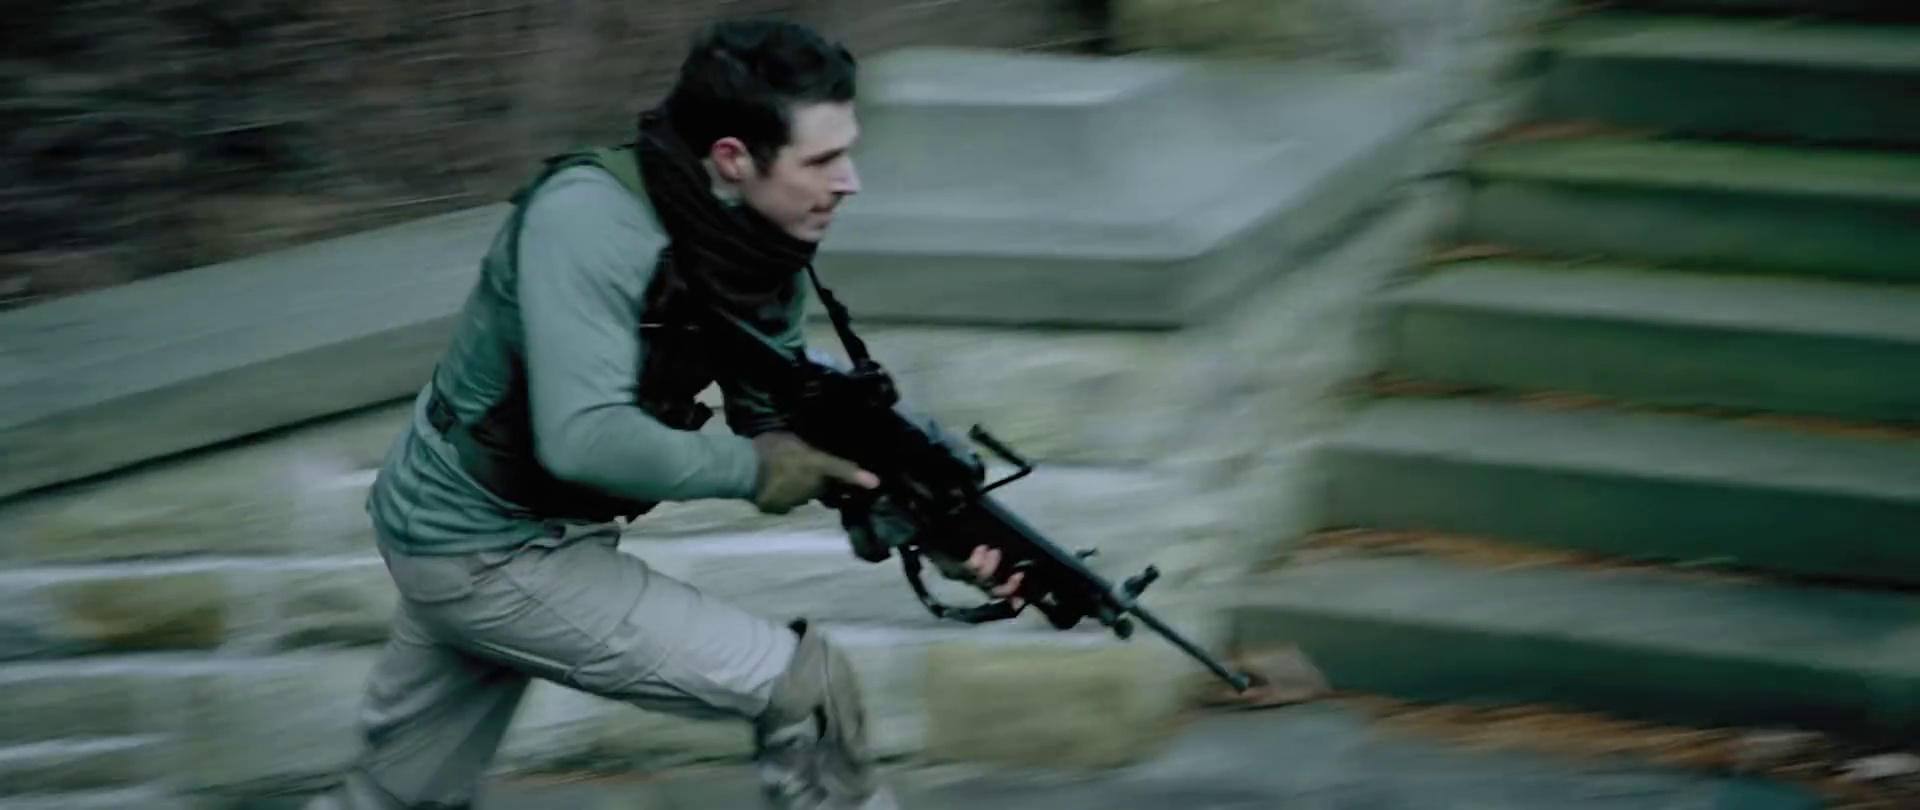gun: (628, 259, 1254, 694)
p_w_gun: (328, 20, 1254, 810)
